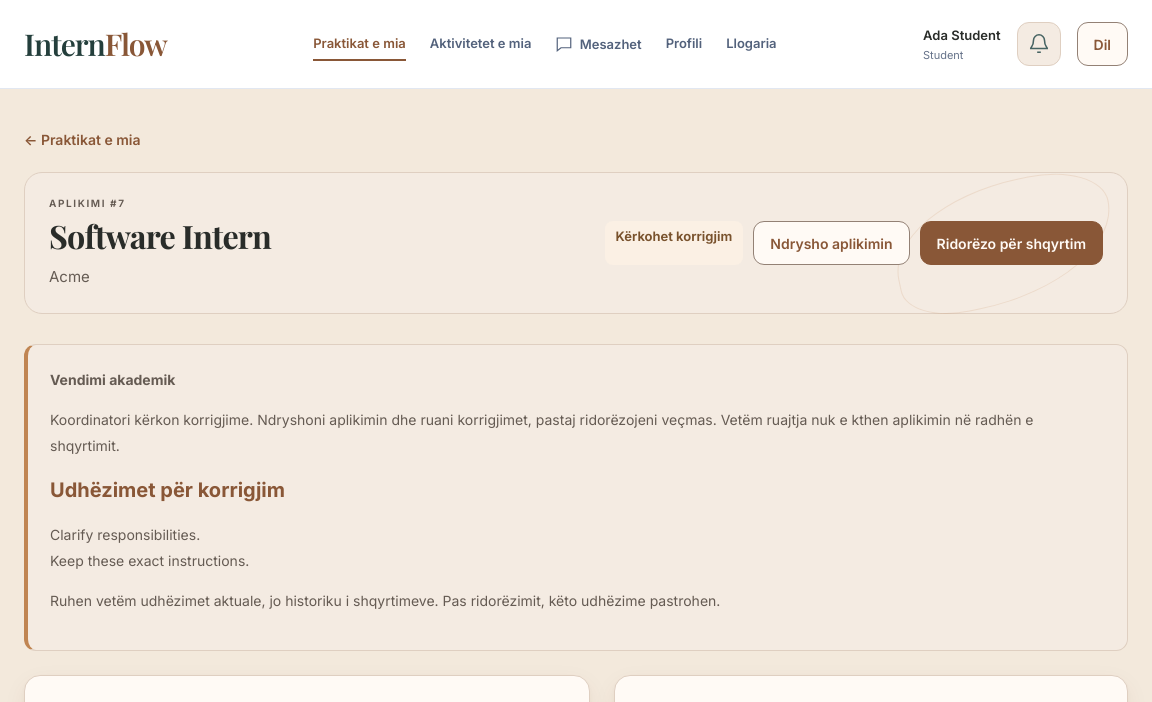
Test: confirms and cancels resubmission without a request, using accessible modal descriptions
This screenshot has width=1152, height=702.
What coordinates should you click on to do the following:
click the button "Ridorëzo për shqyrtim"
I would click on:
 (1011, 243)
Its box is x1=920 y1=221 x2=1103 y2=265.
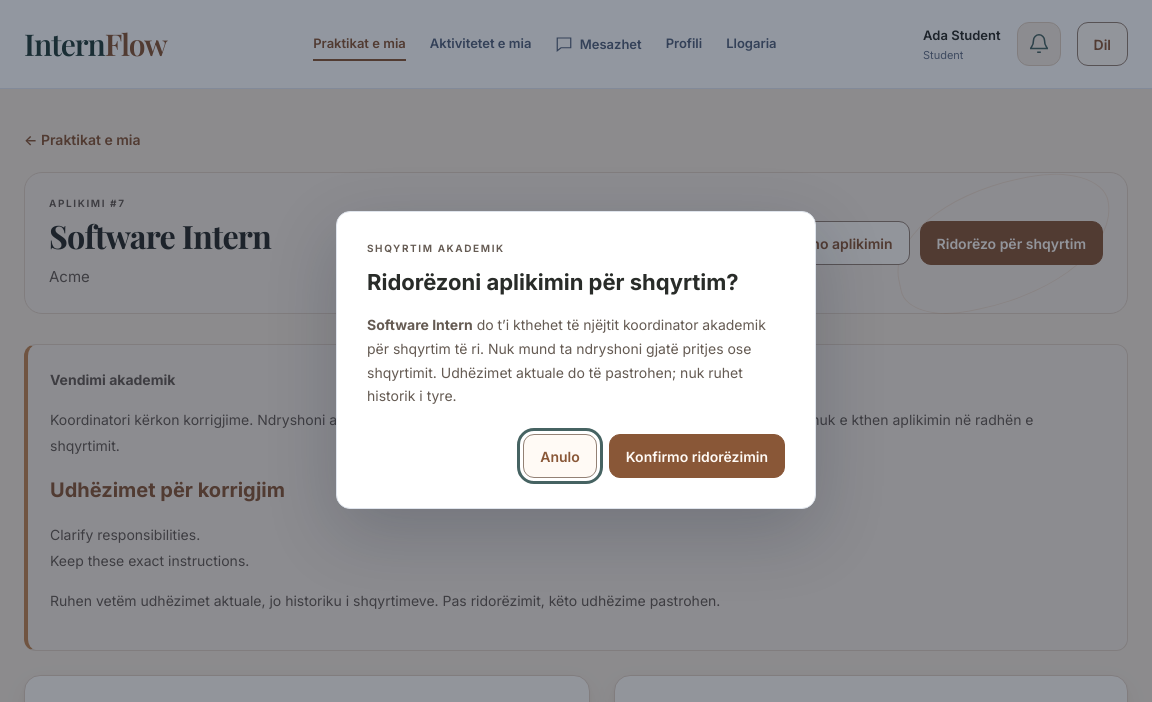
Result: the dialog "Ridorëzoni aplikimin për shqyrtim?" shows "Nuk mund ta ndryshoni gjatë pritjes ose shqyrtimit" at x1=367 y1=316 x2=766 y2=404
What coordinates should you click on to do the following:
click the button "Anulo"
I would click on:
 (560, 456)
Its box is x1=523 y1=434 x2=597 y2=478.
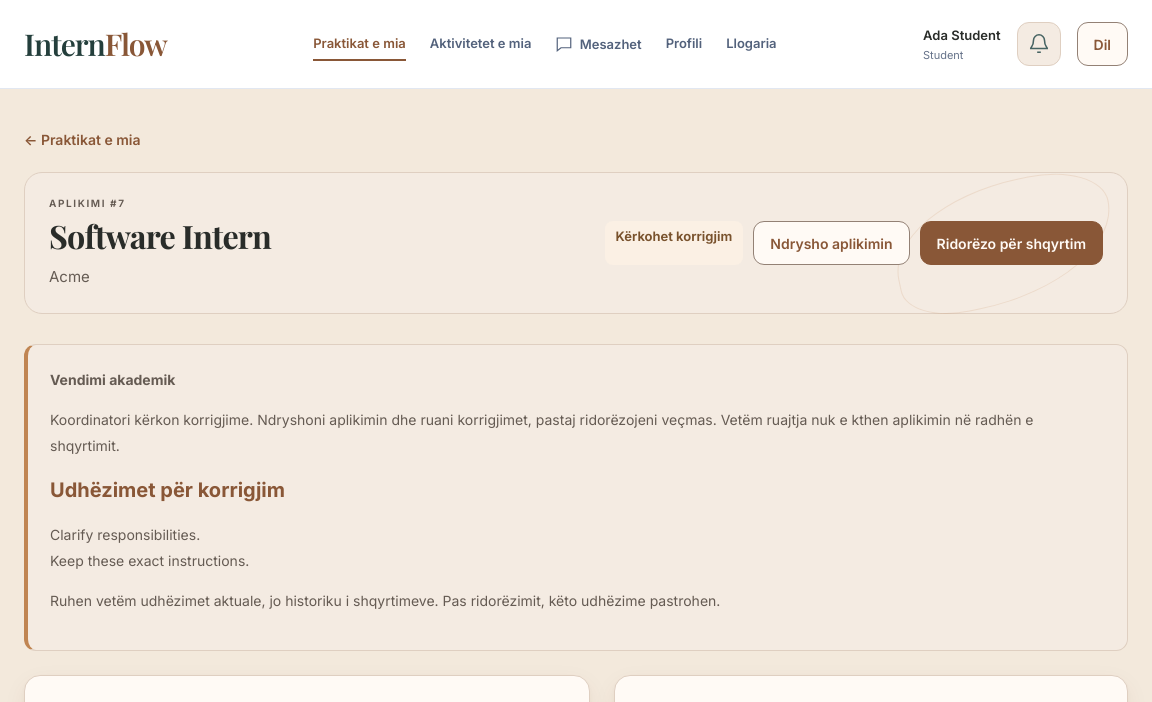
Result: the dialog is gone
